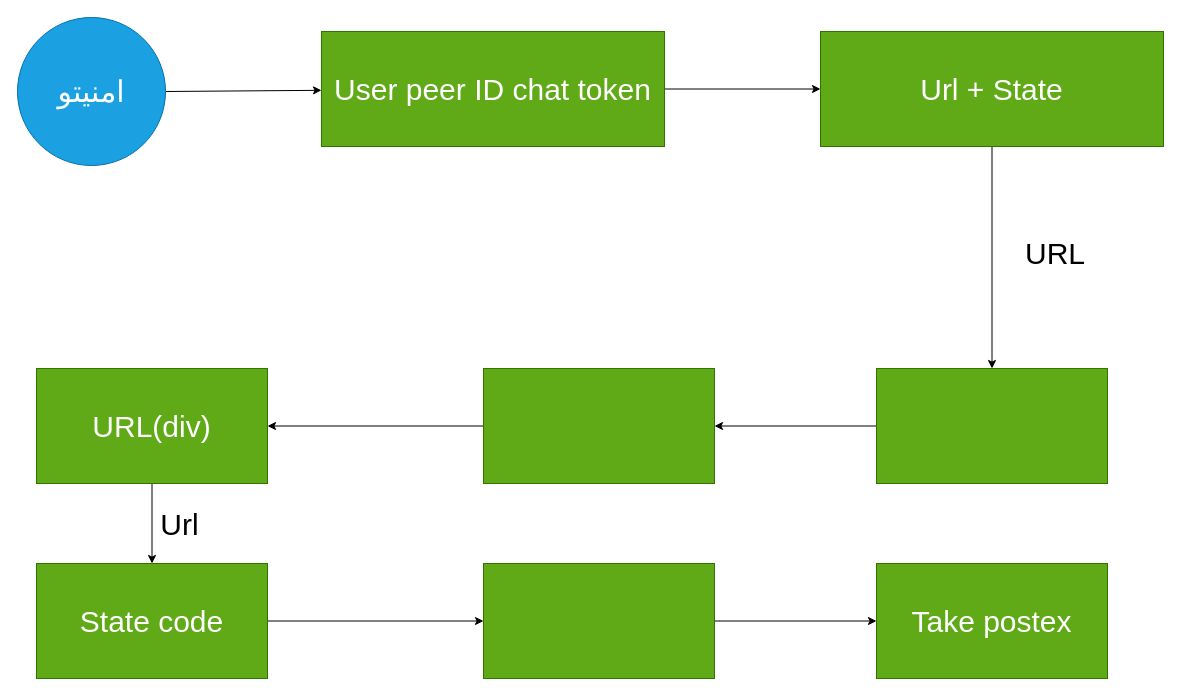
The diagram is 1181 pixels wide and 696 high, and some of its shapes have lost their labels. Here are the shapes that lost their labels. From the top down, the box of each, then its label:
(482, 368, 714, 484): DivarReqAccess
(876, 368, 1108, 484): Route
(482, 562, 714, 678): LoginByCode
